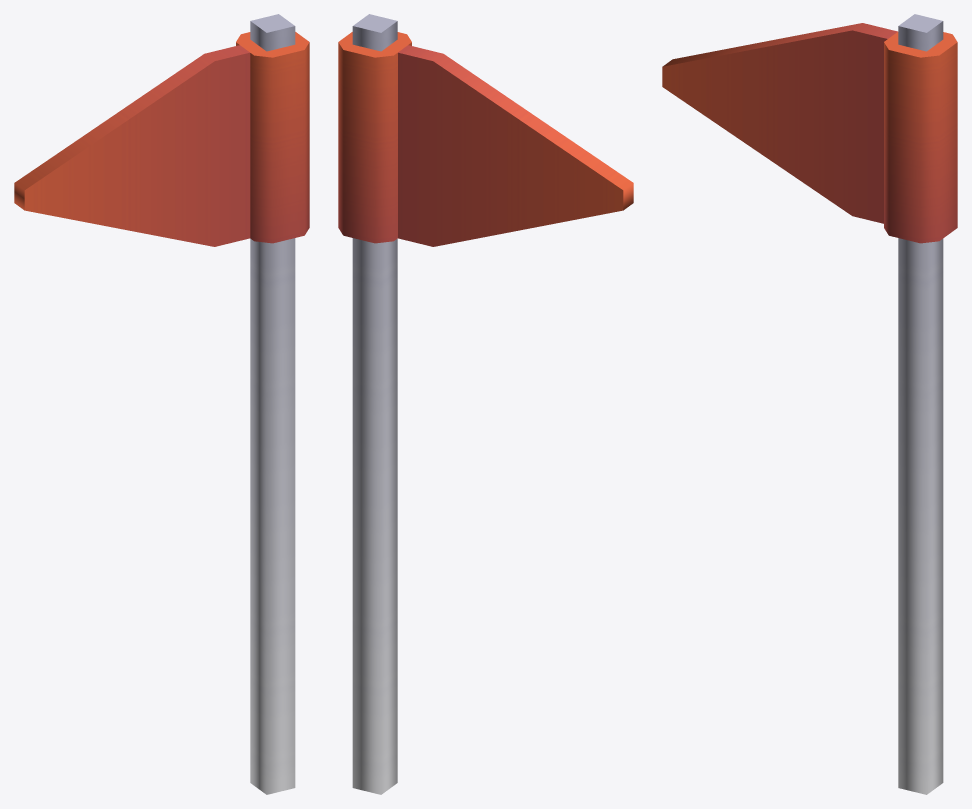
Rendered from flag-red.glb.
3 renders of one model, left to right at view 1: azimuth 30°, elevation 25°; view 2: azimuth 150°, elevation 25°; view 3: azimuth 330°, elevation 25°, orthographic.
Visible parts, largest first — view 1: flag-red; view 2: flag-red; view 3: flag-red.
Part boxes in pixels (box(x1,y1,x2,y2)): flag-red: box(14, 14, 309, 794); flag-red: box(338, 14, 633, 794); flag-red: box(662, 14, 957, 794).
Bounding box in the file's own units: 0.3956 × 1.02 × 0.0781.
1 material, 1 textured.
